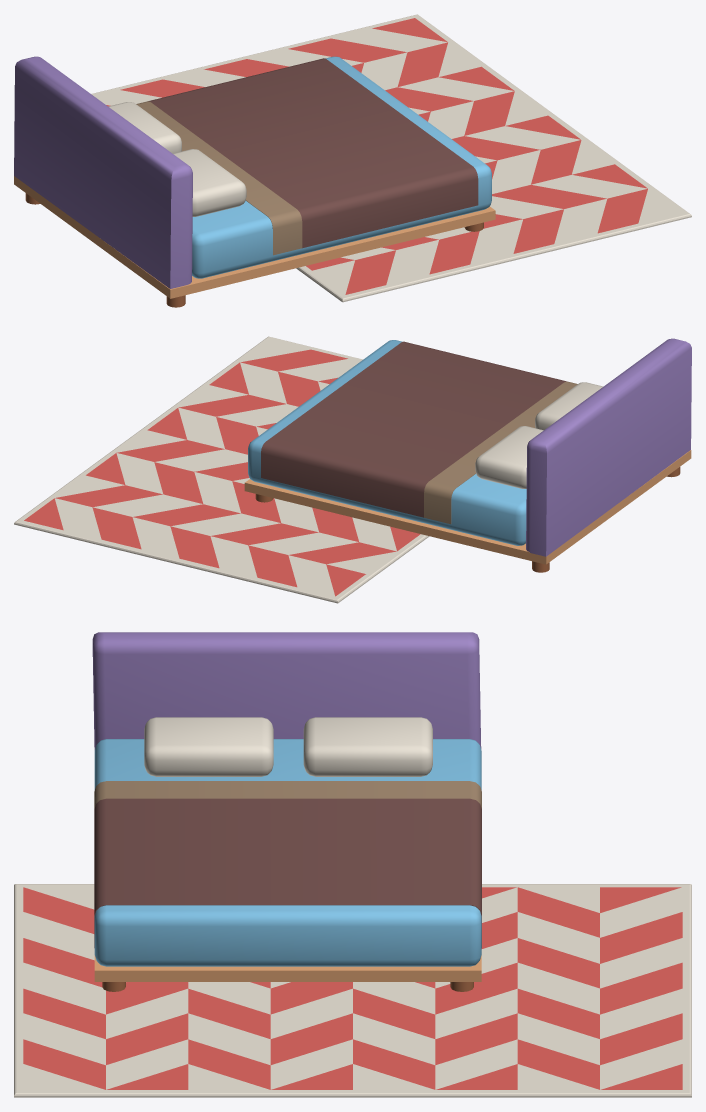
Rendered from 03_Bed.fbx.
The picture shows the model from 3 angles, top to bottom: view 1: azimuth 30°, elevation 25°; view 2: azimuth 150°, elevation 25°; view 3: azimuth 270°, elevation 25°; orthographic projection. The views are drawn at different scales.
Parts seen in each view (by area): view 1: Plane.015, Cube.102, Cube.099, Cube.100, Plane.016, Cube.098, Cube.101; view 2: Plane.015, Cube.102, Cube.099, Cube.100, Cube.098, Plane.016, Cube.101; view 3: Plane.015, Cube.102, Cube.099, Cube.100, Cube.101, Plane.016, Cube.098.
Boxes of the visible parts, x1,y1,x2,y2 form: Plane.015: (94, 18, 680, 294); Cube.102: (136, 58, 478, 255); Cube.099: (14, 56, 192, 288); Cube.100: (192, 56, 491, 278); Plane.016: (91, 14, 691, 302); Cube.098: (14, 176, 495, 298); Cube.101: (108, 102, 246, 216); Plane.015: (24, 340, 420, 596); Cube.102: (261, 341, 577, 524); Cube.099: (526, 338, 691, 556); Cube.100: (248, 340, 526, 545); Cube.098: (244, 450, 691, 564); Plane.016: (14, 336, 429, 603); Cube.101: (475, 382, 603, 488); Plane.015: (23, 887, 682, 1089); Cube.102: (94, 781, 481, 947); Cube.099: (92, 632, 481, 749); Cube.100: (94, 739, 481, 966); Cube.101: (144, 717, 432, 776); Plane.016: (14, 884, 691, 1097); Cube.098: (94, 955, 481, 981).
Size of the model in its own units: 7.37 by 2.03 by 7.16.
